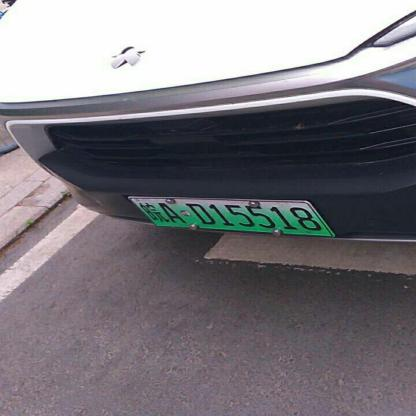lp: (129, 197, 332, 236)
